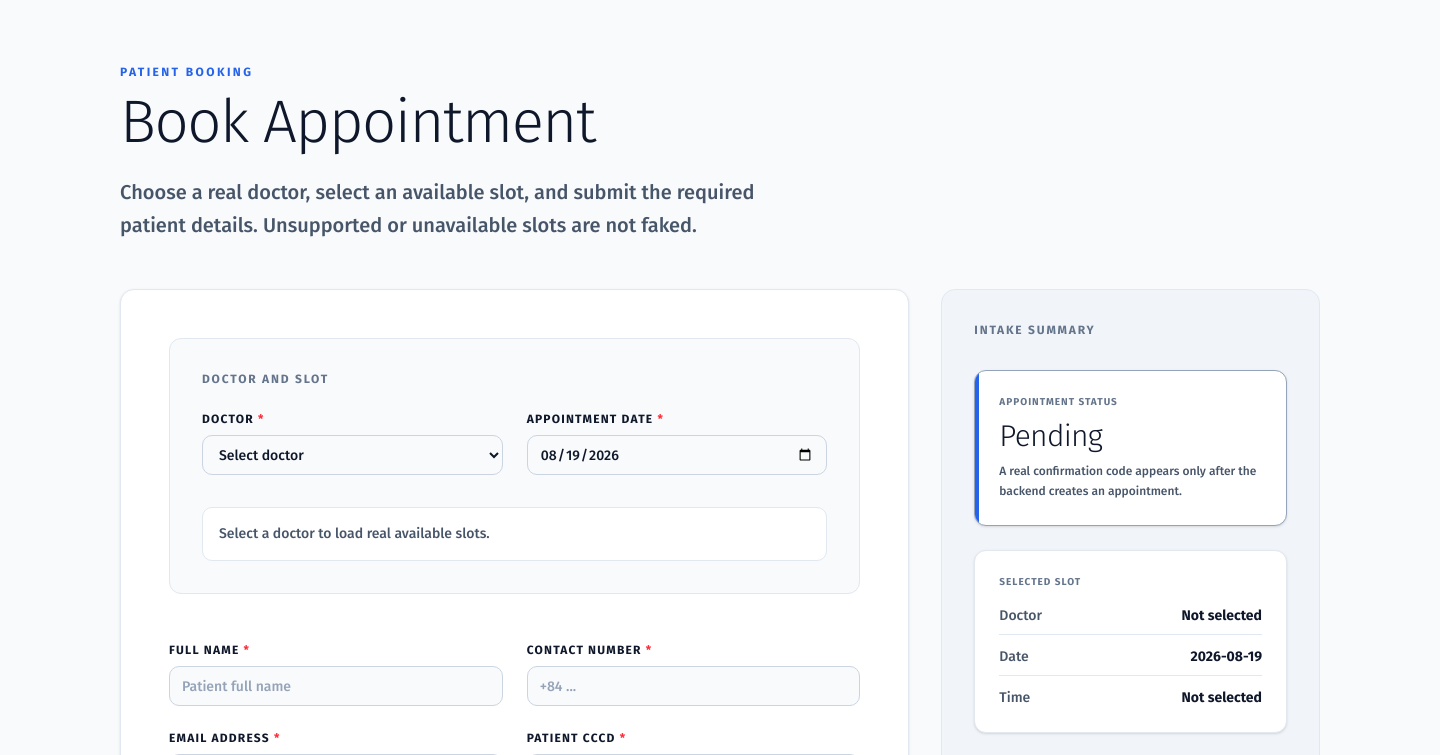
Test: PublicBookingPage › shows slot loading errors and keeps the form usable
Select "Dr. Lan Tran - Cardiology" in the dropdown labelled "Doctor *": (352, 455) [202,435,503,475]
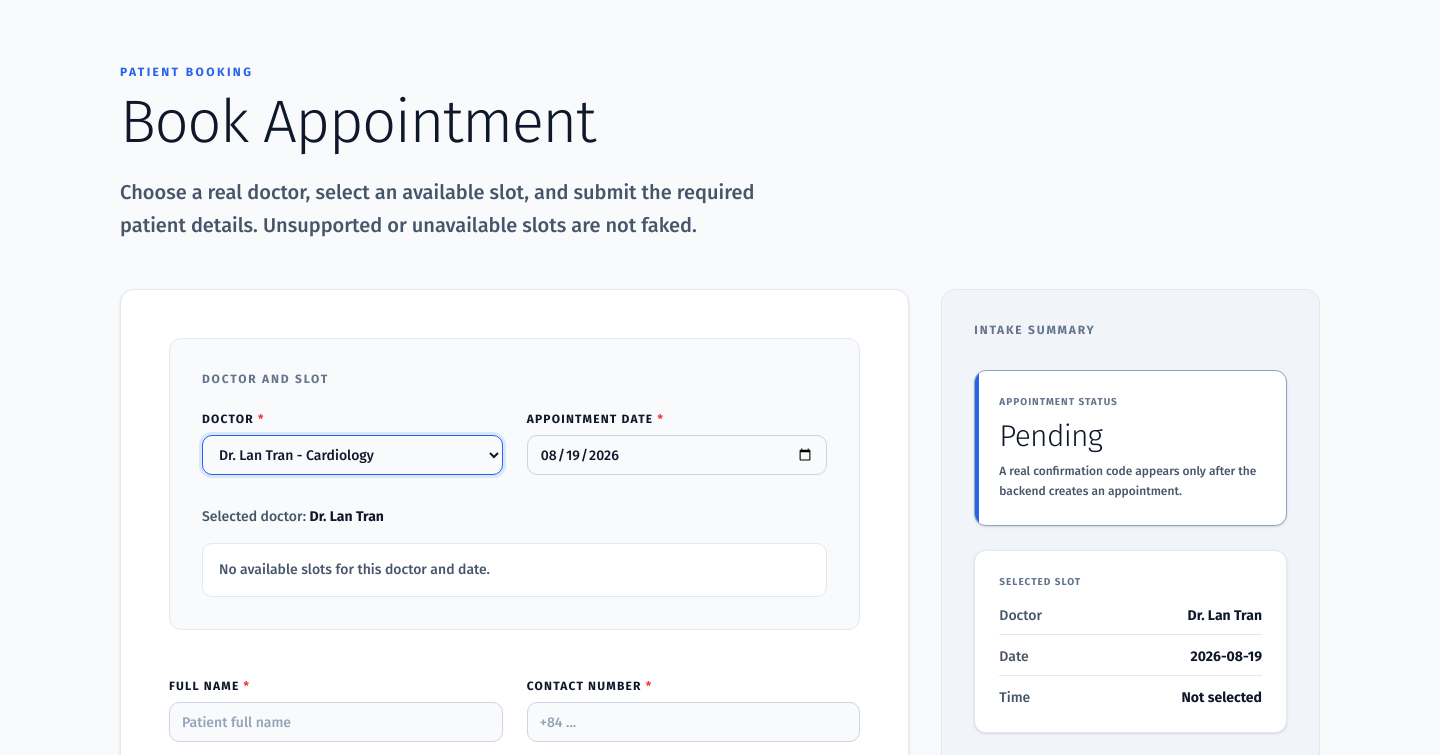
Expected: the text "No available slots for this doctor and date." is shown, [202,543,827,597]
